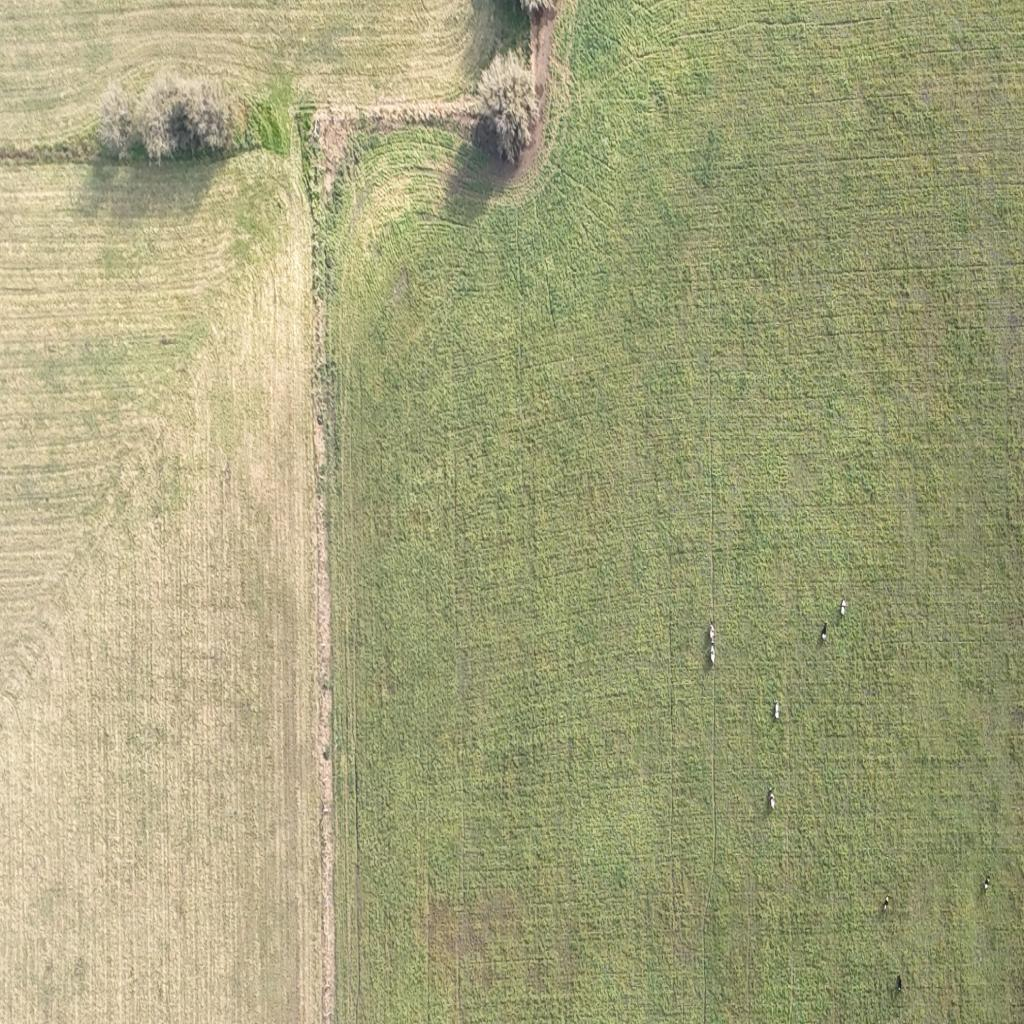cow: (896, 974, 903, 994), (769, 792, 776, 810), (821, 622, 827, 642), (709, 623, 715, 643), (840, 598, 846, 617), (883, 896, 889, 914), (774, 700, 779, 720), (710, 646, 715, 666), (984, 876, 990, 892)
